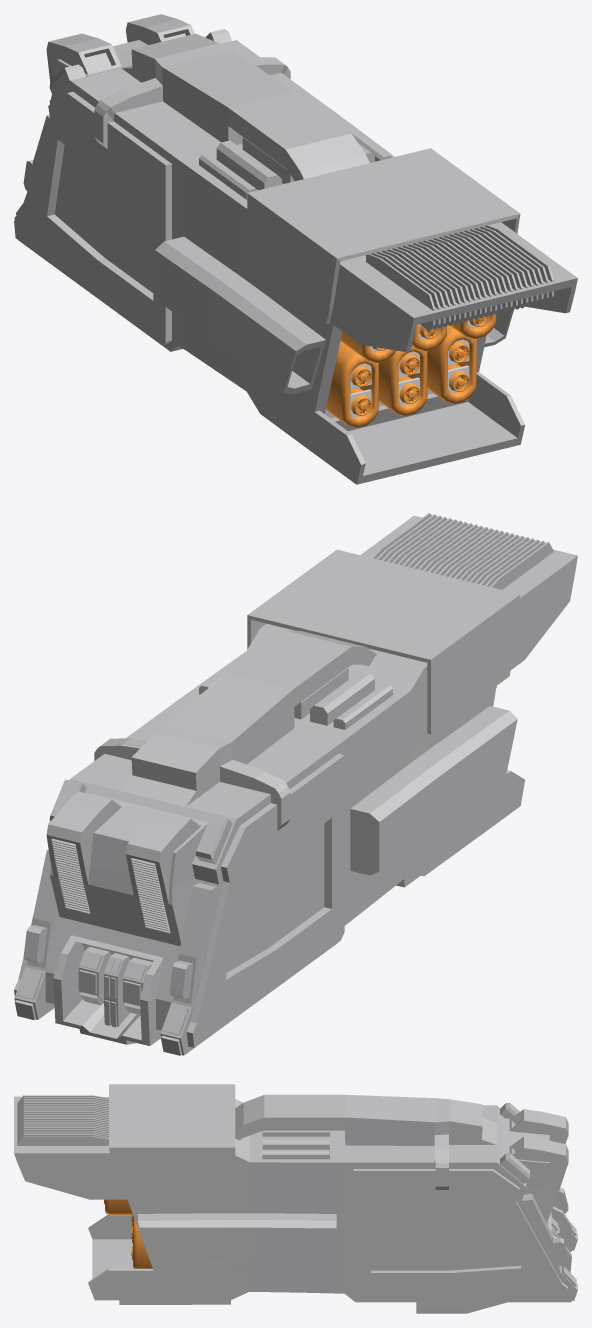
The model's file is Cube_Engine.glb.
The picture shows the model from 3 angles, top to bottom: view 1: azimuth 30°, elevation 25°; view 2: azimuth 150°, elevation 25°; view 3: azimuth 270°, elevation 25°; orthographic projection. The views are drawn at different scales.
Parts seen in each view (by area): view 1: Cube Engine; view 2: Cube Engine; view 3: Cube Engine.
Part boxes in pixels (x1,y1,x2,y2): Cube Engine: (14,14,577,484); Cube Engine: (14,513,577,1055); Cube Engine: (14,1084,577,1313).
Bounding box in the file's own units: 3.03 × 3.64 × 9.33.
